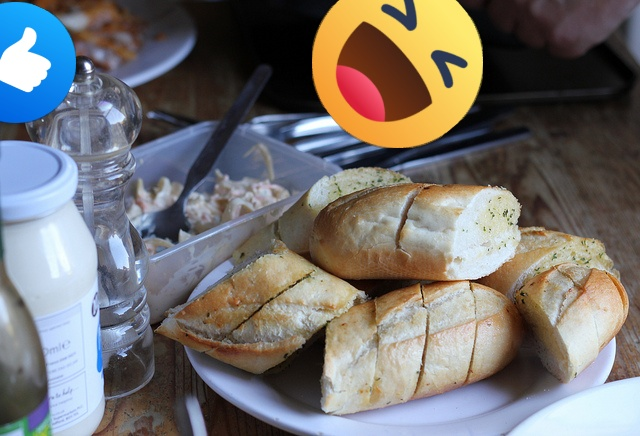haha: (312, 0, 483, 148)
like: (0, 2, 76, 123)
